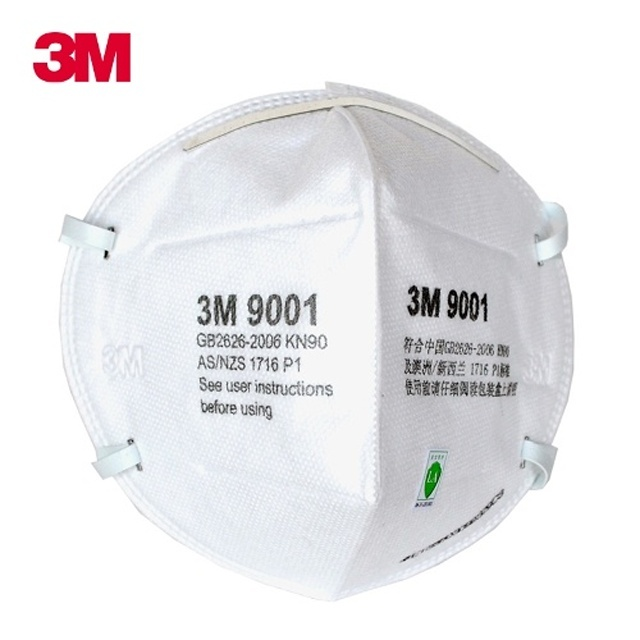mask: (53, 81, 576, 609)
